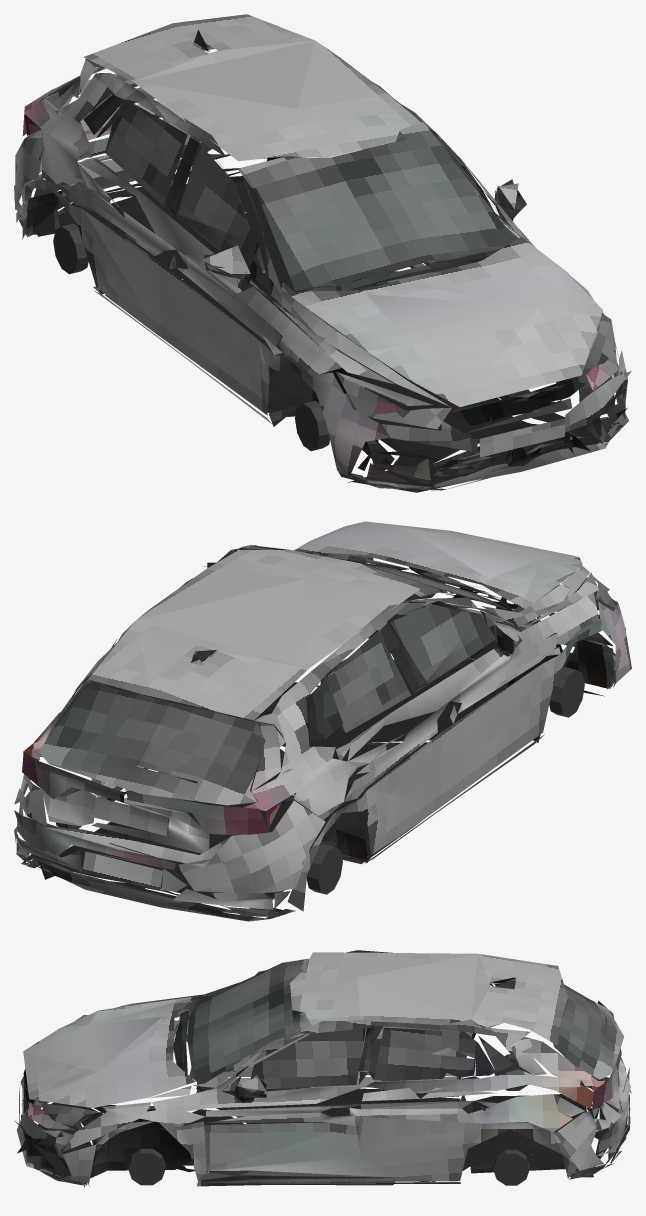
The model's file is kompakt_f.glb.
The picture shows the model from 3 angles, top to bottom: view 1: azimuth 30°, elevation 25°; view 2: azimuth 150°, elevation 25°; view 3: azimuth 270°, elevation 25°; orthographic projection. The views are drawn at different scales.
Parts seen in each view (by area): view 1: karosserie, rad_hl; view 2: karosserie, rad_hl; view 3: karosserie, rad_hl.
Boxes of the visible parts, box(x1,y1,x2,y2) form: karosserie: box(14, 14, 631, 492); rad_hl: box(53, 223, 578, 451); karosserie: box(14, 521, 631, 921); rad_hl: box(56, 667, 584, 894); karosserie: box(15, 950, 631, 1187); rad_hl: box(128, 1054, 531, 1185).
Bounding box in the file's own units: 1.95 × 1.37 × 4.33.
Materials: 2 (1 with a texture image).
